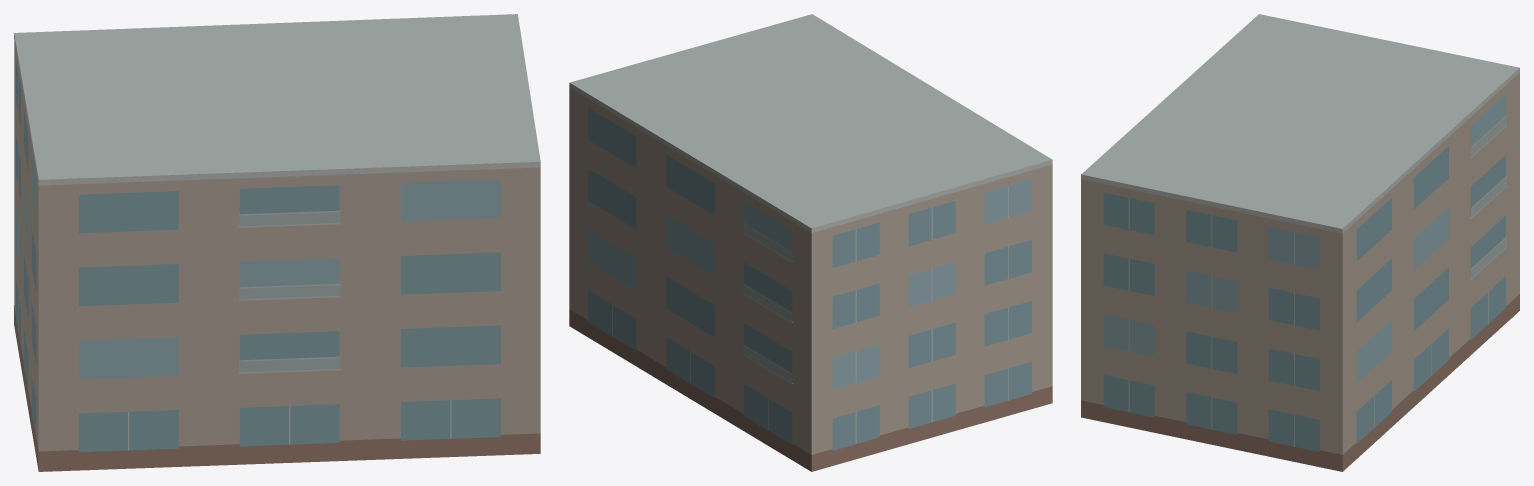
Rendered from survey-upis-32674101.glb.
The picture shows the model from 3 angles, left to right: view 1: azimuth 30°, elevation 25°; view 2: azimuth 150°, elevation 25°; view 3: azimuth 270°, elevation 25°; orthographic projection. The views are drawn at different scales.
Parts seen in each view (by area): view 1: survey-upis-32674101.tmp; view 2: survey-upis-32674101.tmp; view 3: survey-upis-32674101.tmp.
Boxes of the visible parts, x1,y1,x2,y2 form: survey-upis-32674101.tmp: (14, 14, 540, 471); survey-upis-32674101.tmp: (569, 14, 1052, 471); survey-upis-32674101.tmp: (1081, 14, 1519, 471).
Bounding box in the file's own units: 23.53 × 12.4 × 20.3.
